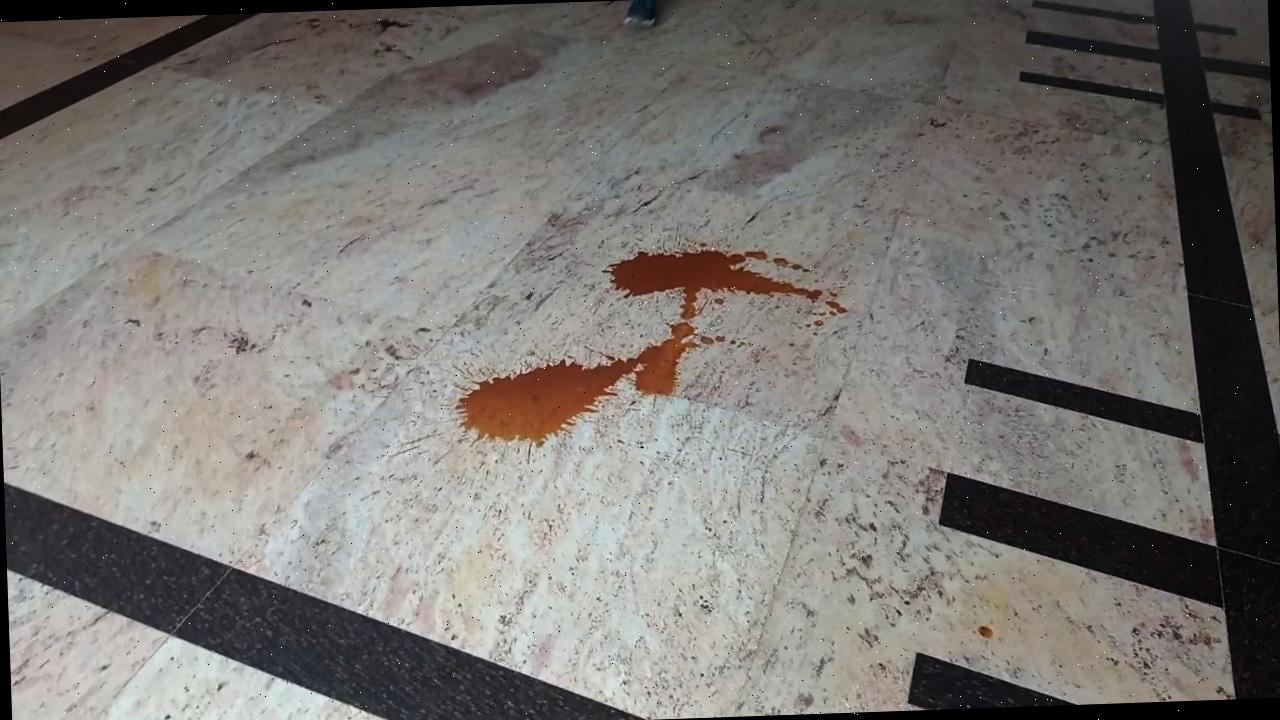dirty_floor: (452, 239, 851, 456)
